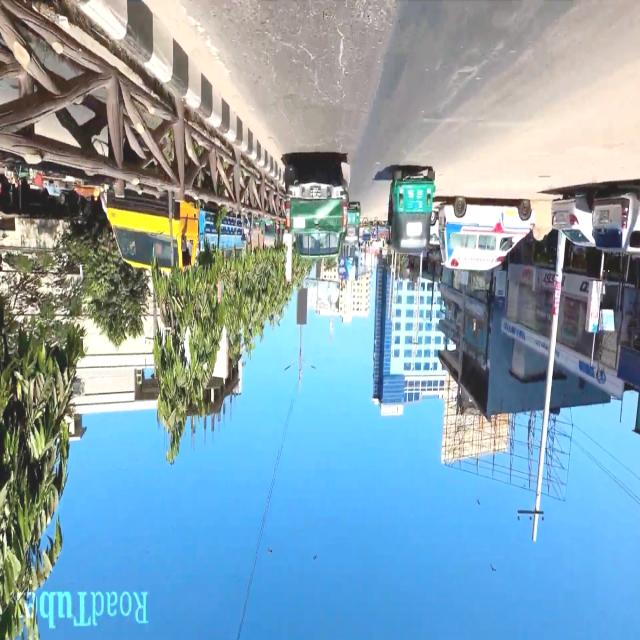white: (592, 182, 640, 254), (548, 188, 590, 252)
